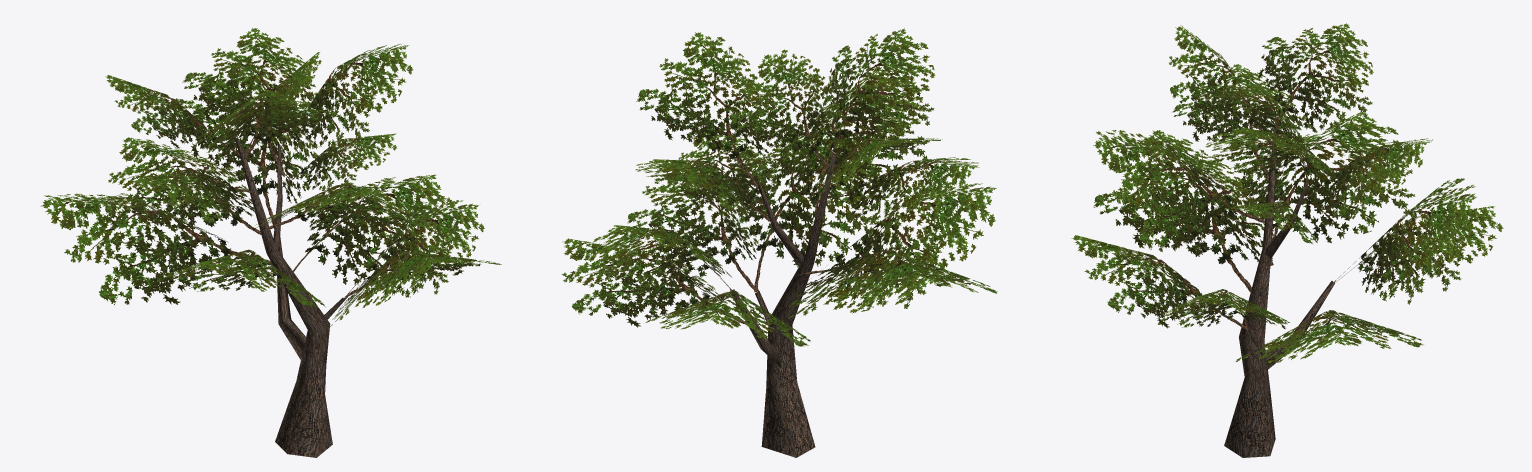
The model's file is tre_maple03_big.static.glb.
3 views of the same model, side by side, from view 1: azimuth 30°, elevation 25°; view 2: azimuth 150°, elevation 25°; view 3: azimuth 270°, elevation 25° (orthographic). The views are drawn at different scales.
Parts seen in each view (by area): view 1: tre_maple03_big_leaf, tre_maple03_big_brn; view 2: tre_maple03_big_leaf, tre_maple03_big_brn; view 3: tre_maple03_big_leaf, tre_maple03_big_brn.
Boxes of the visible parts, x1,y1,x2,y2 form: tre_maple03_big_leaf: (40, 28, 501, 326); tre_maple03_big_brn: (235, 139, 347, 457); tre_maple03_big_leaf: (561, 28, 997, 346); tre_maple03_big_brn: (729, 153, 836, 457); tre_maple03_big_leaf: (1071, 23, 1503, 363); tre_maple03_big_brn: (1224, 124, 1334, 457).
Size of the model in its own units: 33.84 by 31.6 by 33.85.
2 materials, 2 textured.
